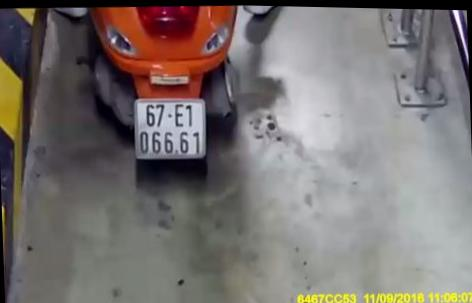LP: (132, 93, 208, 162)
